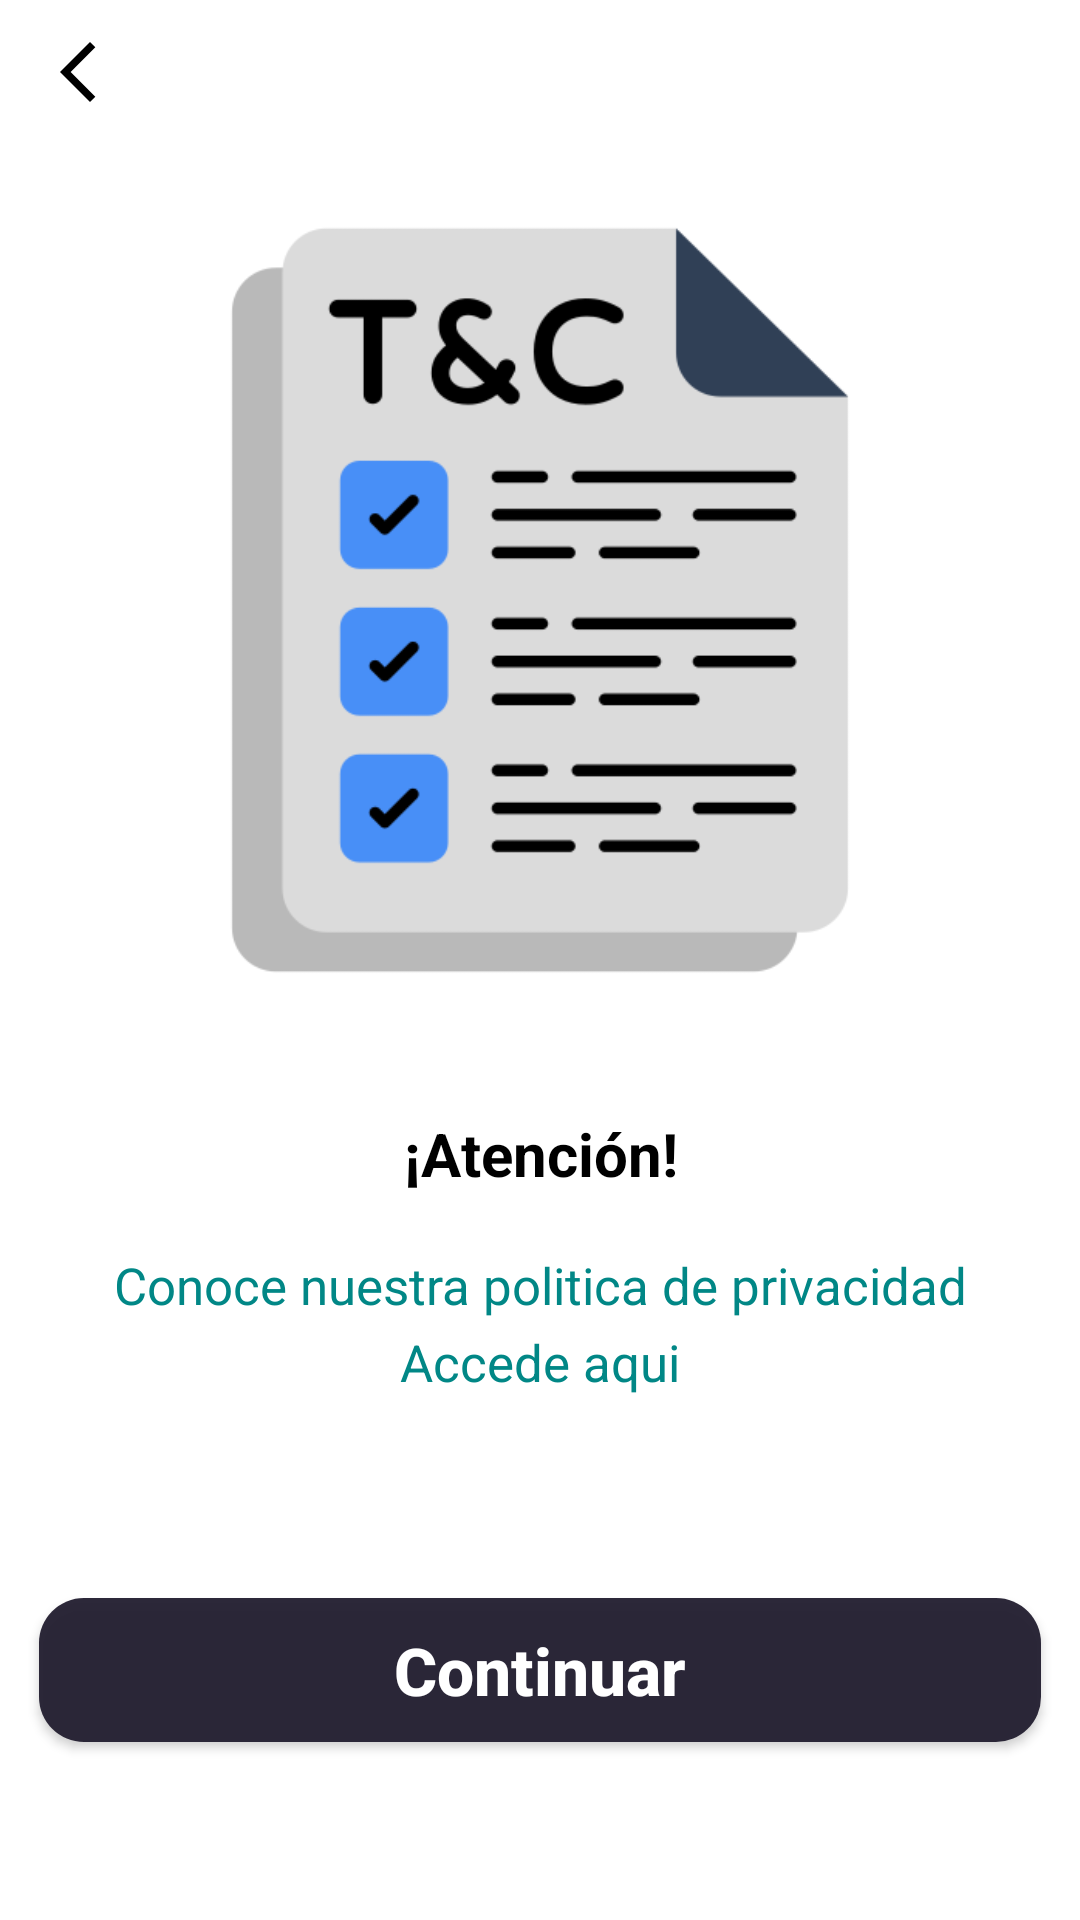

Locate icon controls on the screen. Image size 1080w x 1920h, boxes as (x1, y1, x2, y2).
left: (60, 42, 95, 102)
